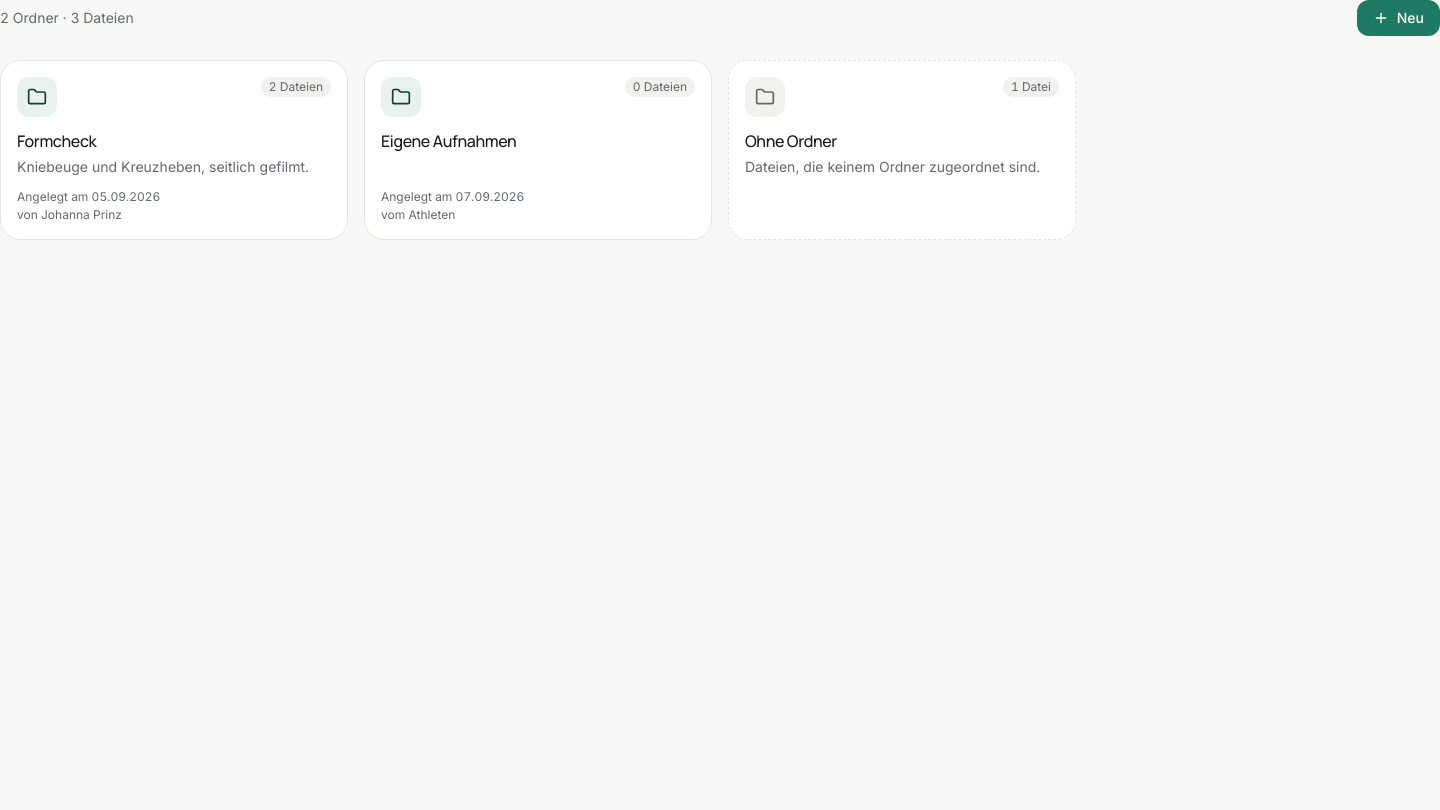
putting something here › keeps the dialog open and says why when the folder cannot be made
Click the button "Neu": {"x": 1398, "y": 18} [1357,0,1439,36]
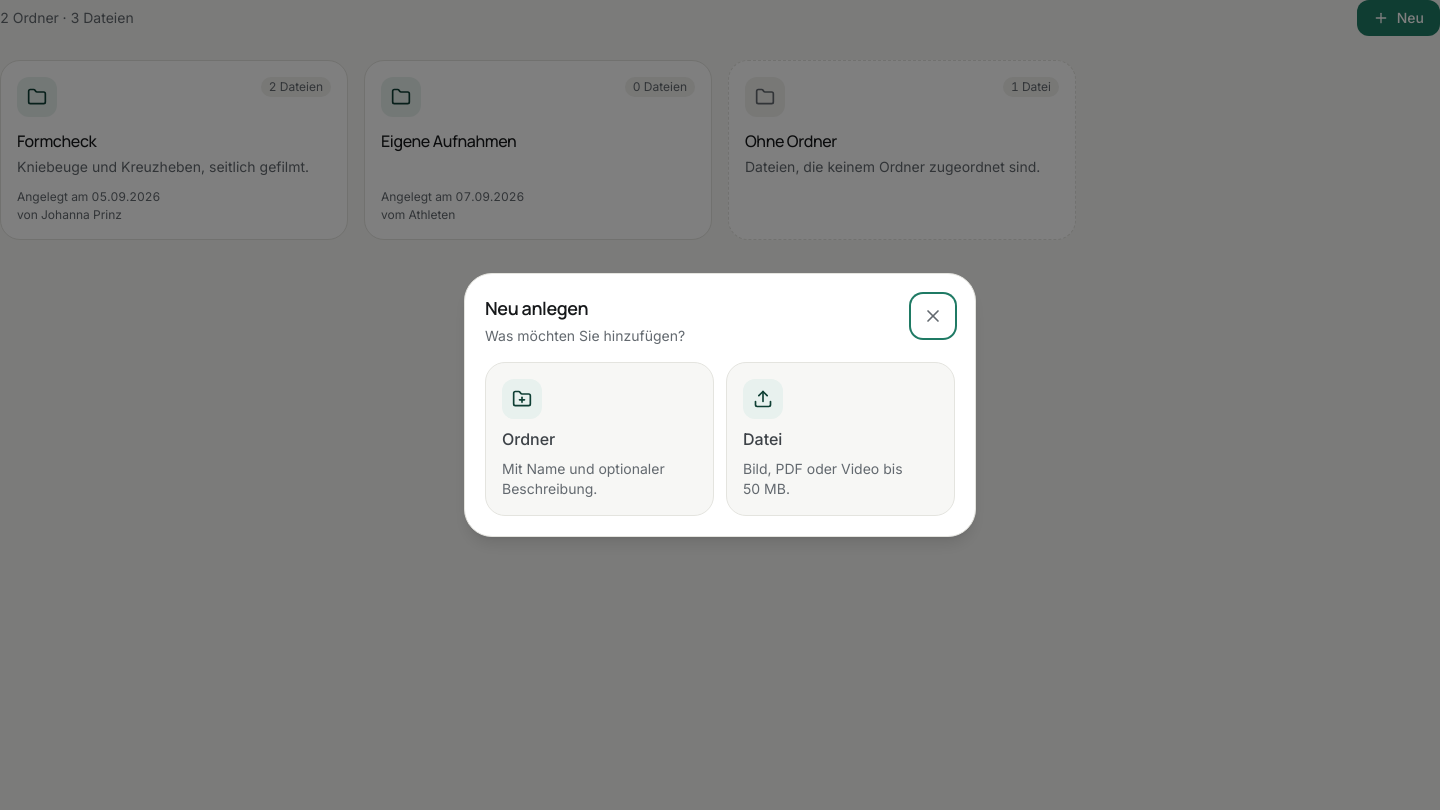
Click the button "Ordner Mit Name und optionaler Beschreibung.": {"x": 600, "y": 439} [485,362,714,516]
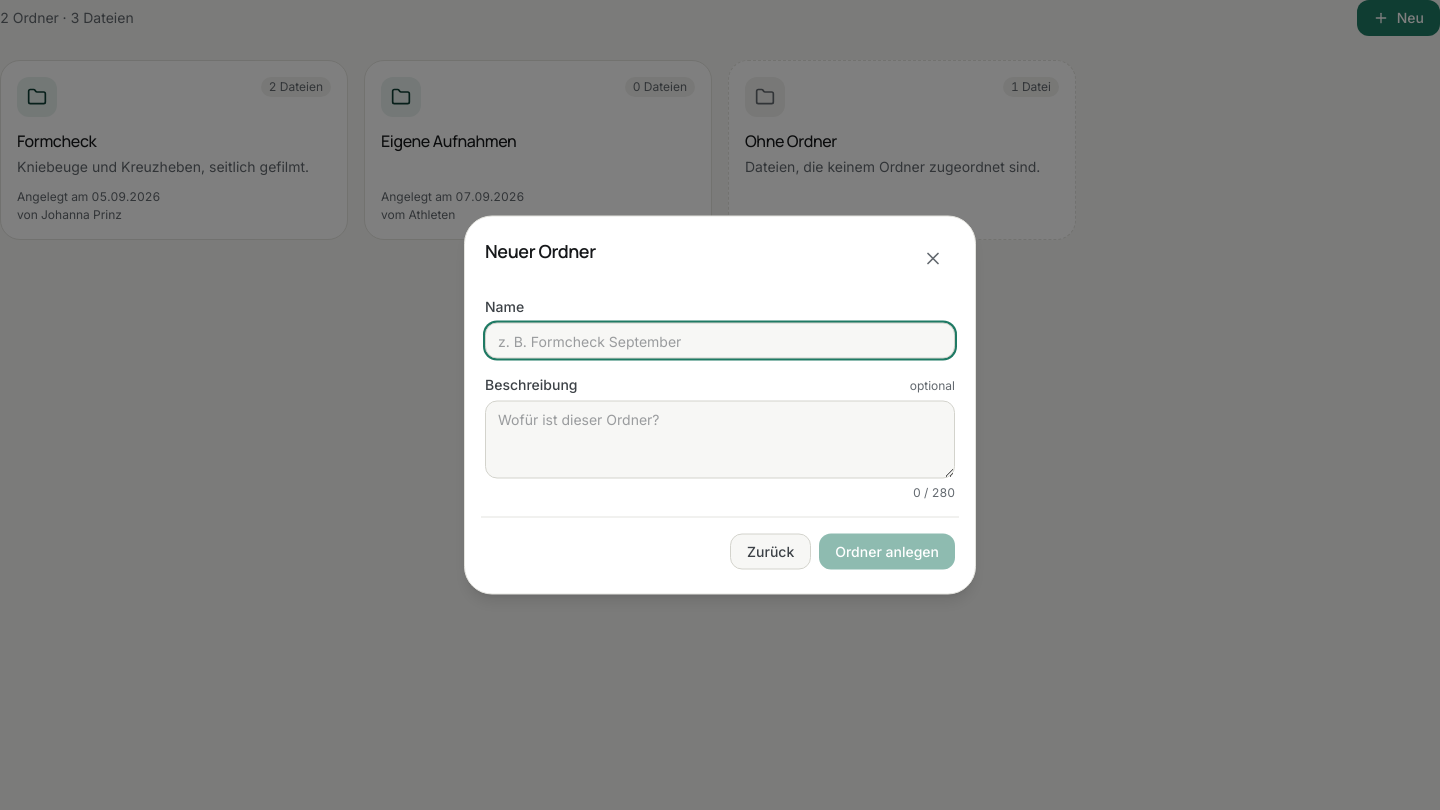
In the field labelled "Name": {"x": 720, "y": 340} [485,322,955,358], type "Formcheck"
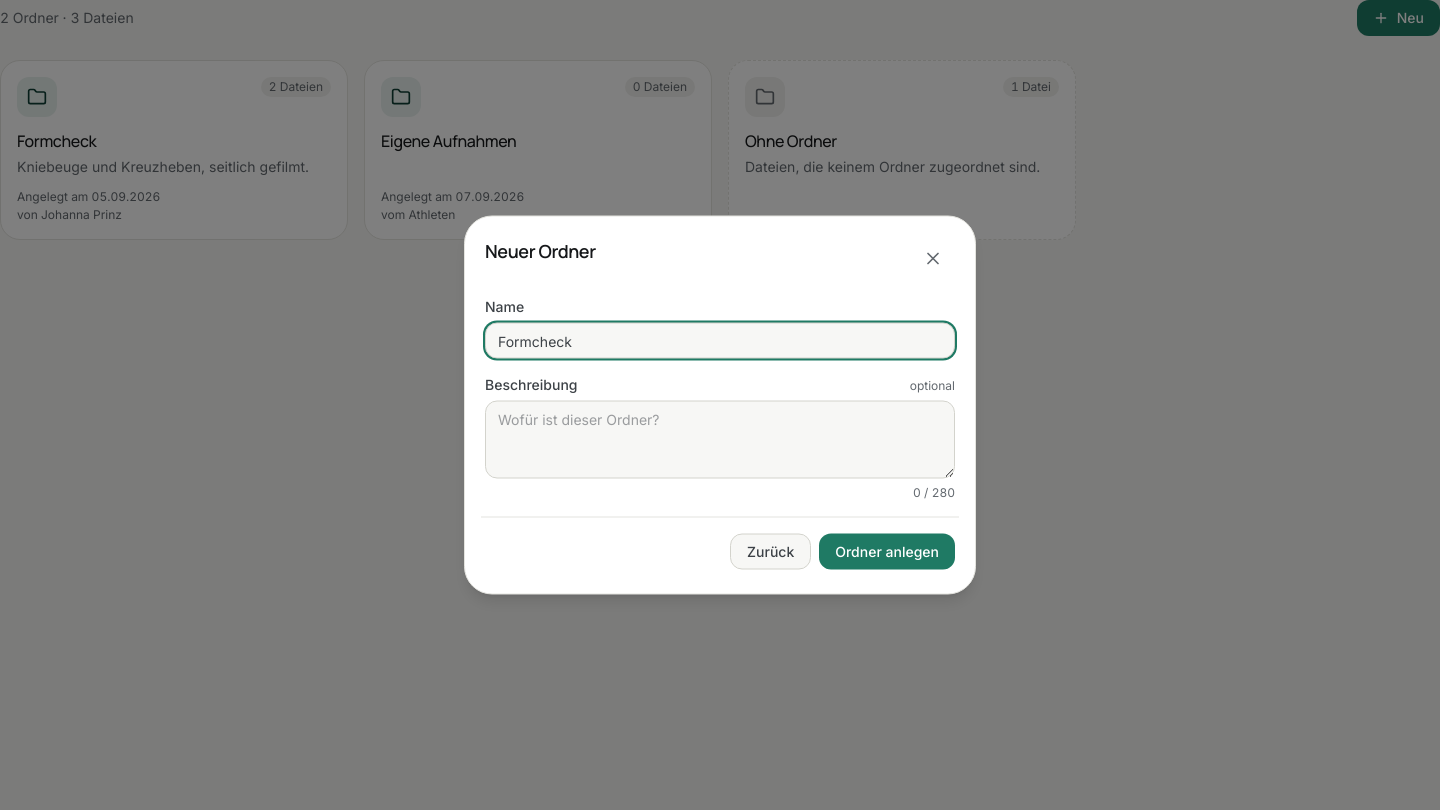
Click the button "Ordner anlegen": {"x": 887, "y": 552} [819,534,955,570]
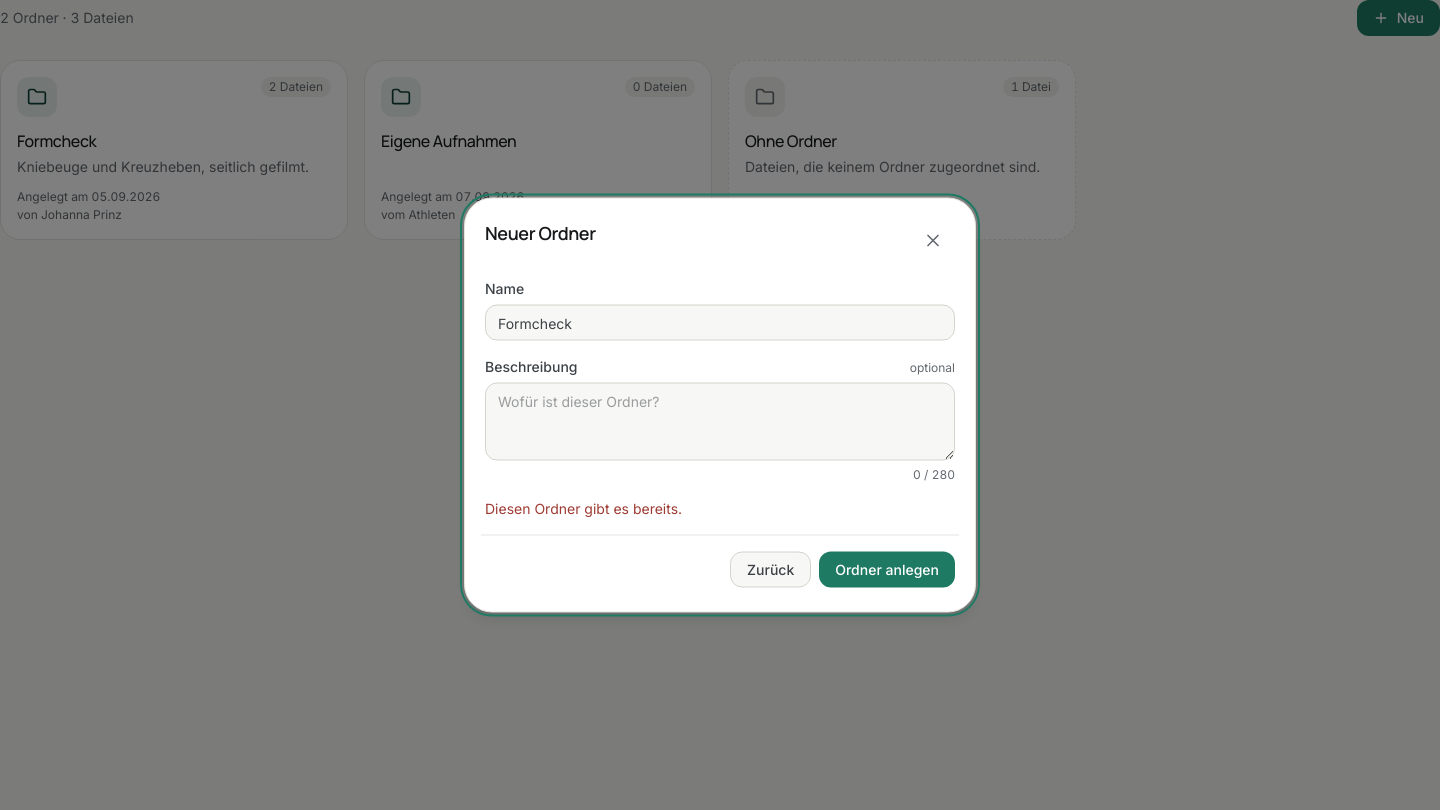
expect the dialog is shown: met, box [464,198,976,612]
expect the message shows "bereits": met, box [485,500,682,516]
